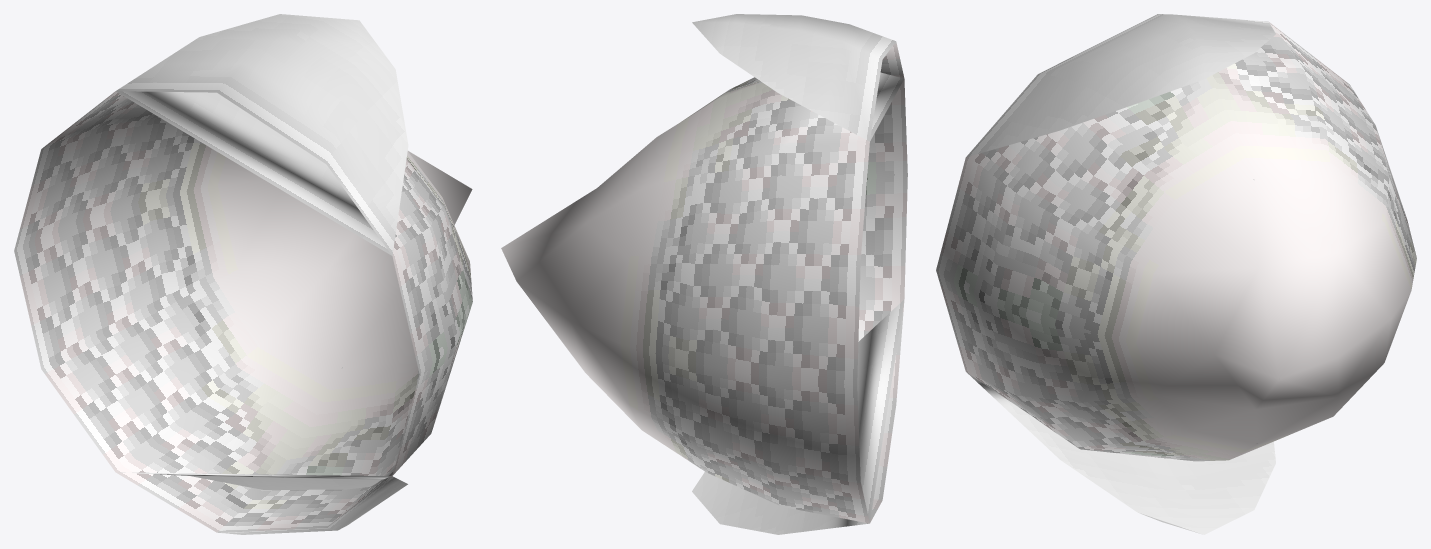
Rendered from cap_hat_dutch.dae.
3 views of the same model, side by side, from view 1: azimuth 30°, elevation 25°; view 2: azimuth 150°, elevation 25°; view 3: azimuth 270°, elevation 25° (orthographic). The views are drawn at different scales.
Parts seen in each view (by area): view 1: cap_hat_dutch; view 2: cap_hat_dutch; view 3: cap_hat_dutch.
Boxes of the visible parts, x1=… form: cap_hat_dutch: x1=14, y1=14, x2=472, y2=534; cap_hat_dutch: x1=501, y1=14, x2=907, y2=534; cap_hat_dutch: x1=936, y1=14, x2=1416, y2=534.
Size of the model in its own units: 20.46 by 23.44 by 21.52.
1 material, 1 textured.
